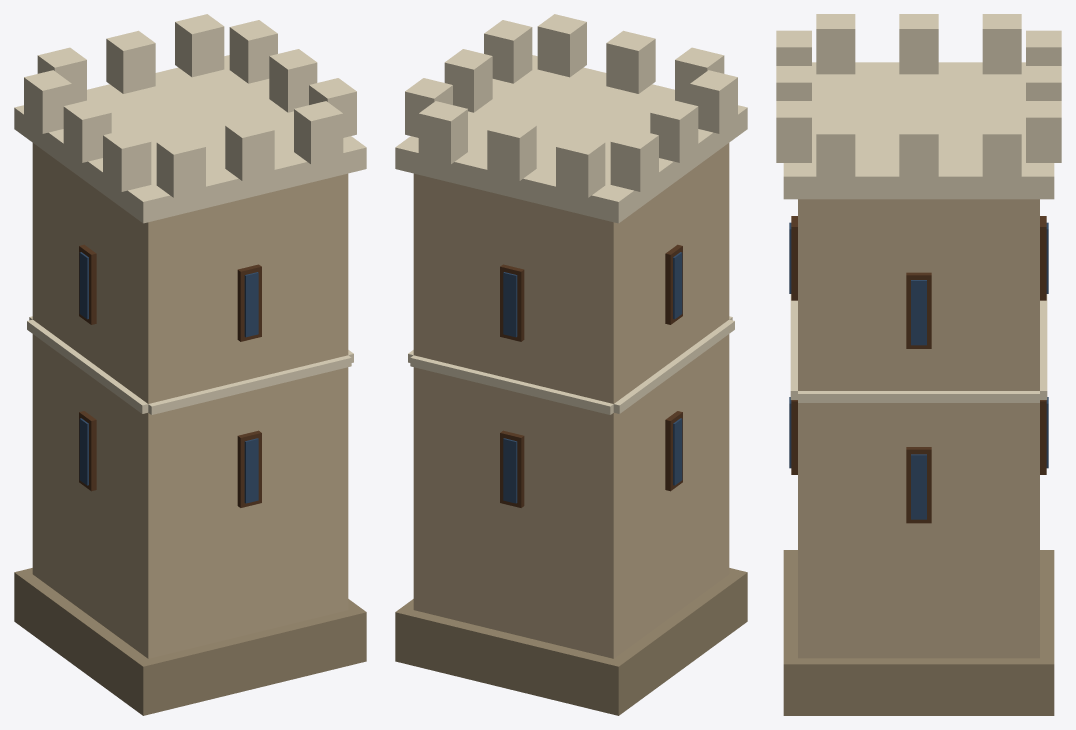
Rendered from Wall_TowerSquare.fbx.
The picture shows the model from 3 angles, left to right: view 1: azimuth 30°, elevation 25°; view 2: azimuth 150°, elevation 25°; view 3: azimuth 270°, elevation 25°; orthographic projection. The views are drawn at different scales.
Parts seen in each view (by area): view 1: Wall_TowerSquare; view 2: Wall_TowerSquare; view 3: Wall_TowerSquare.
Part boxes in pixels (x1=…): Wall_TowerSquare: x1=14, y1=14, x2=366, y2=715; Wall_TowerSquare: x1=395, y1=14, x2=747, y2=715; Wall_TowerSquare: x1=776, y1=14, x2=1061, y2=715.
Size of the model in its own units: 4 by 9.05 by 4.
